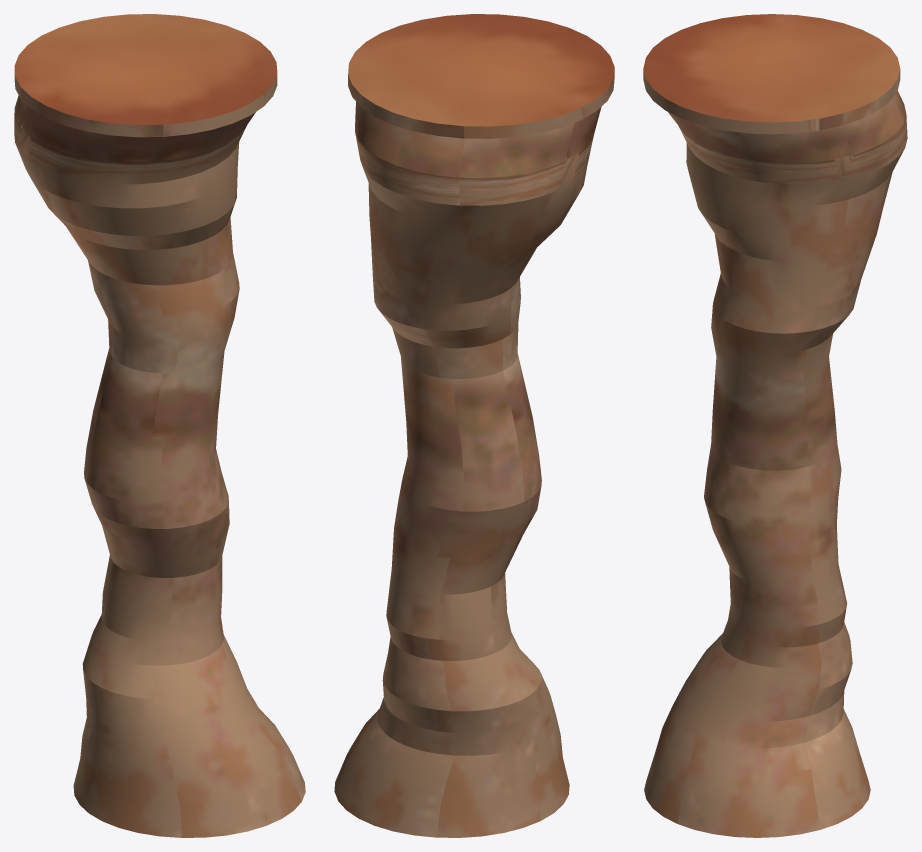
Rendered from pillar2-texture.glb.
3 renders of one model, left to right at view 1: azimuth 30°, elevation 25°; view 2: azimuth 150°, elevation 25°; view 3: azimuth 270°, elevation 25°, orthographic. The views are drawn at different scales.
Parts seen in each view (by area): view 1: Cylinder; view 2: Cylinder; view 3: Cylinder.
Boxes of the visible parts, x1=… form: Cylinder: x1=14, y1=14, x2=305, y2=837; Cylinder: x1=334, y1=14, x2=614, y2=837; Cylinder: x1=643, y1=14, x2=907, y2=837.
Size of the model in its own units: 5.02 by 13.81 by 4.69.
1 material, 1 textured.
